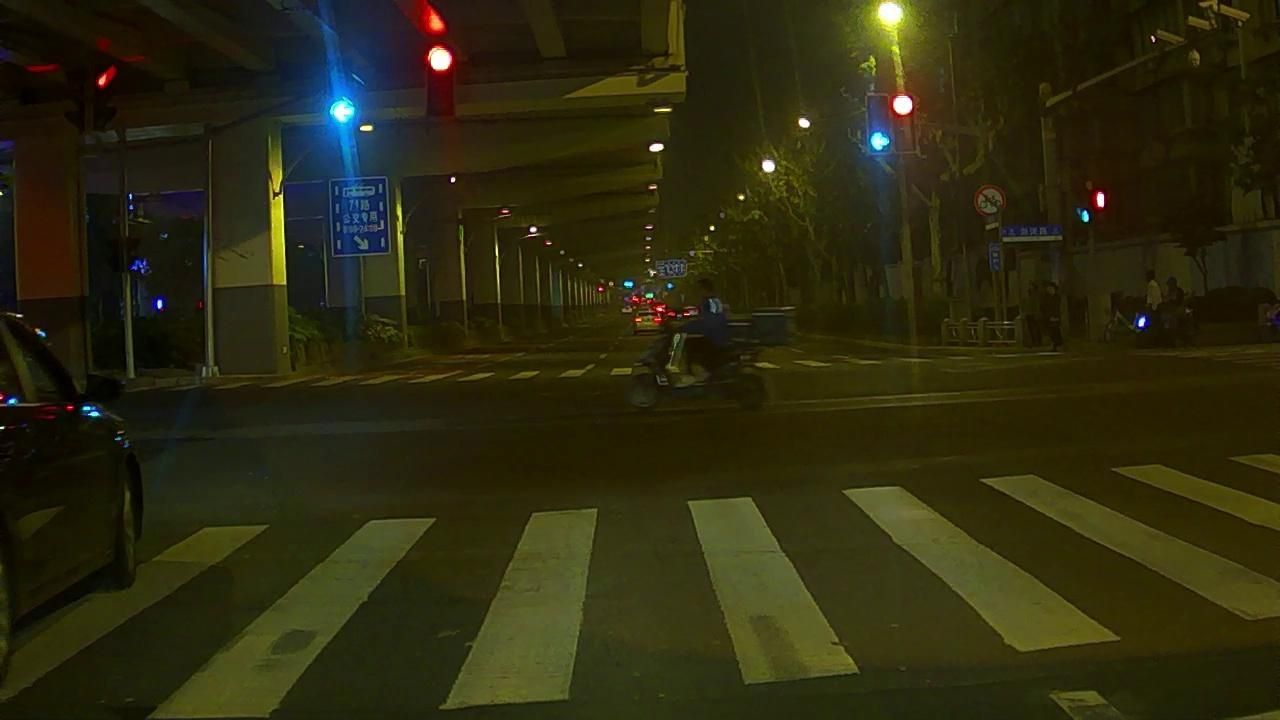traffic_light: (427, 43, 453, 112), (889, 93, 914, 153), (866, 95, 888, 154), (330, 97, 355, 125)
